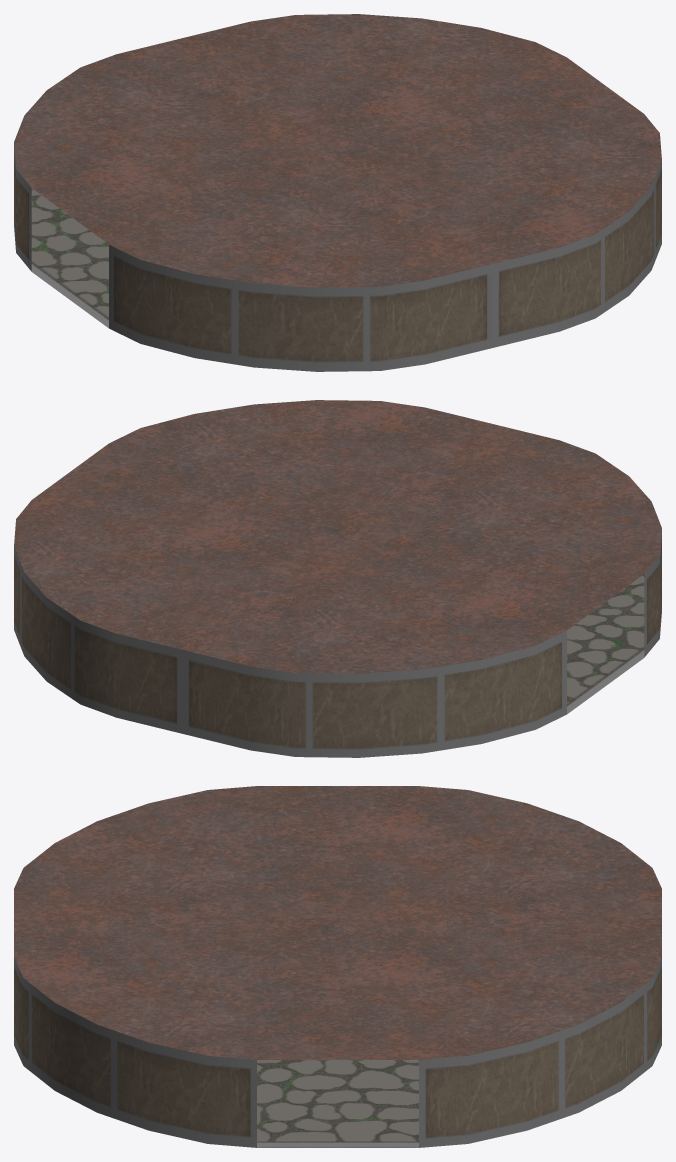
The model's file is LargeRound TwoDoor.fbx.
3 renders of one model, top to bottom at view 1: azimuth 30°, elevation 25°; view 2: azimuth 150°, elevation 25°; view 3: azimuth 270°, elevation 25°, orthographic. The views are drawn at different scales.
Parts seen in each view (by area): view 1: pRound_TwoDoor; view 2: pRound_TwoDoor; view 3: pRound_TwoDoor.
Boxes of the visible parts, box(x1,y1,x2,y2) form: pRound_TwoDoor: box(14, 14, 661, 371); pRound_TwoDoor: box(14, 400, 661, 757); pRound_TwoDoor: box(14, 786, 661, 1147).
Size of the model in its own units: 8 by 1.2 by 8.
